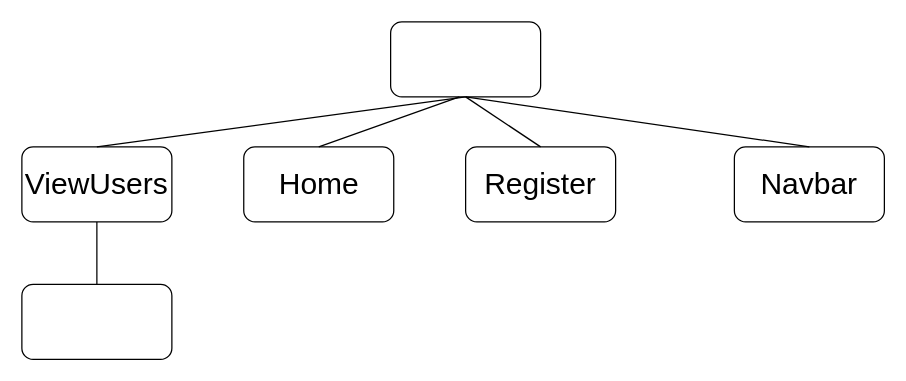
Some shapes in this 906 by 381 pixel diagram are drawn without their labels. The shapes that lost their labels are listed below. From the top down, each one's centre as x and y in pixels, then its label:
At [465,59]: "App".
At [96,321]: "User".
